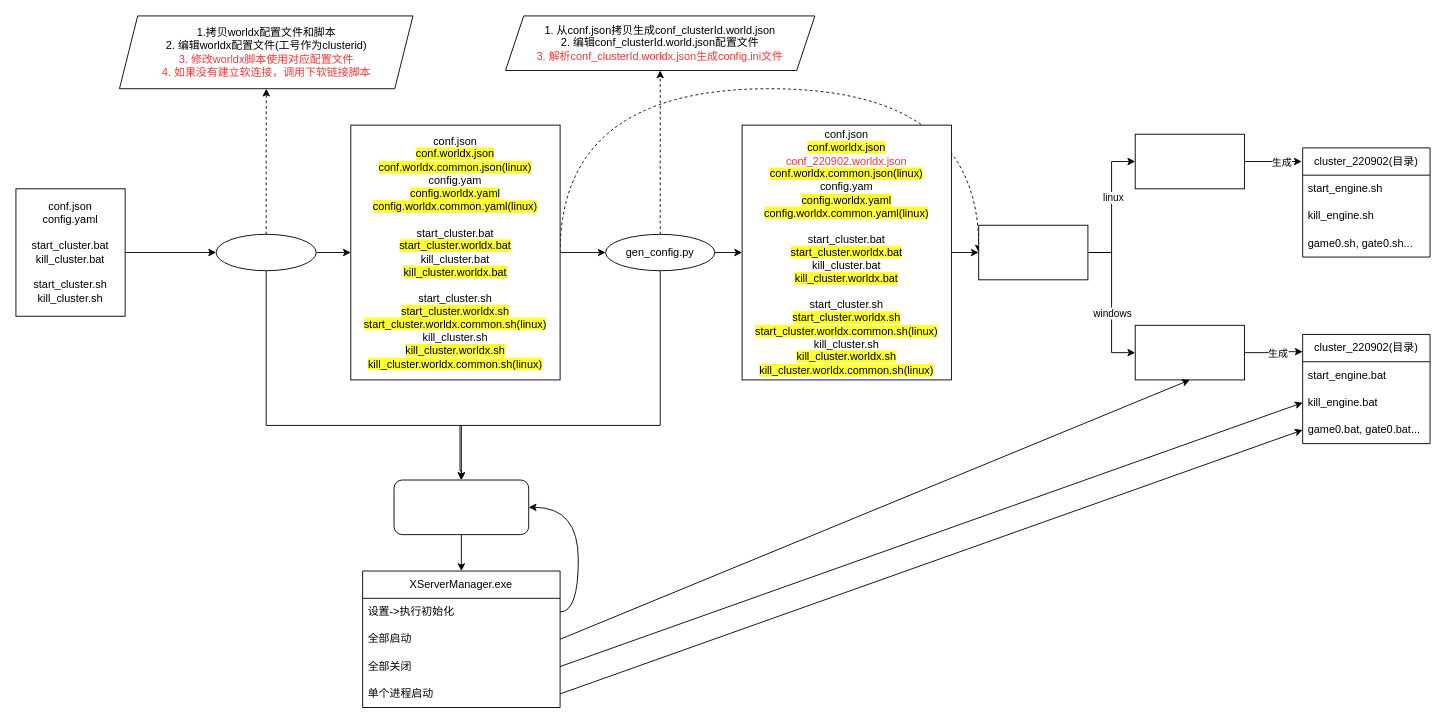
Some shapes in this 1446 by 723 pixel diagram are drawn without their labels. The centre of each missing label's shape, as x and y in pixels:
"init.py" belongs at (265,252).
"linux_controller.py" belongs at (1189,161).
"start_cluster.py kill_cluster.py" belongs at (1033,252).
"windows_controller.py" belongs at (1189,352).
"初始化 LoginInWindows结束后" belongs at (461,507).
